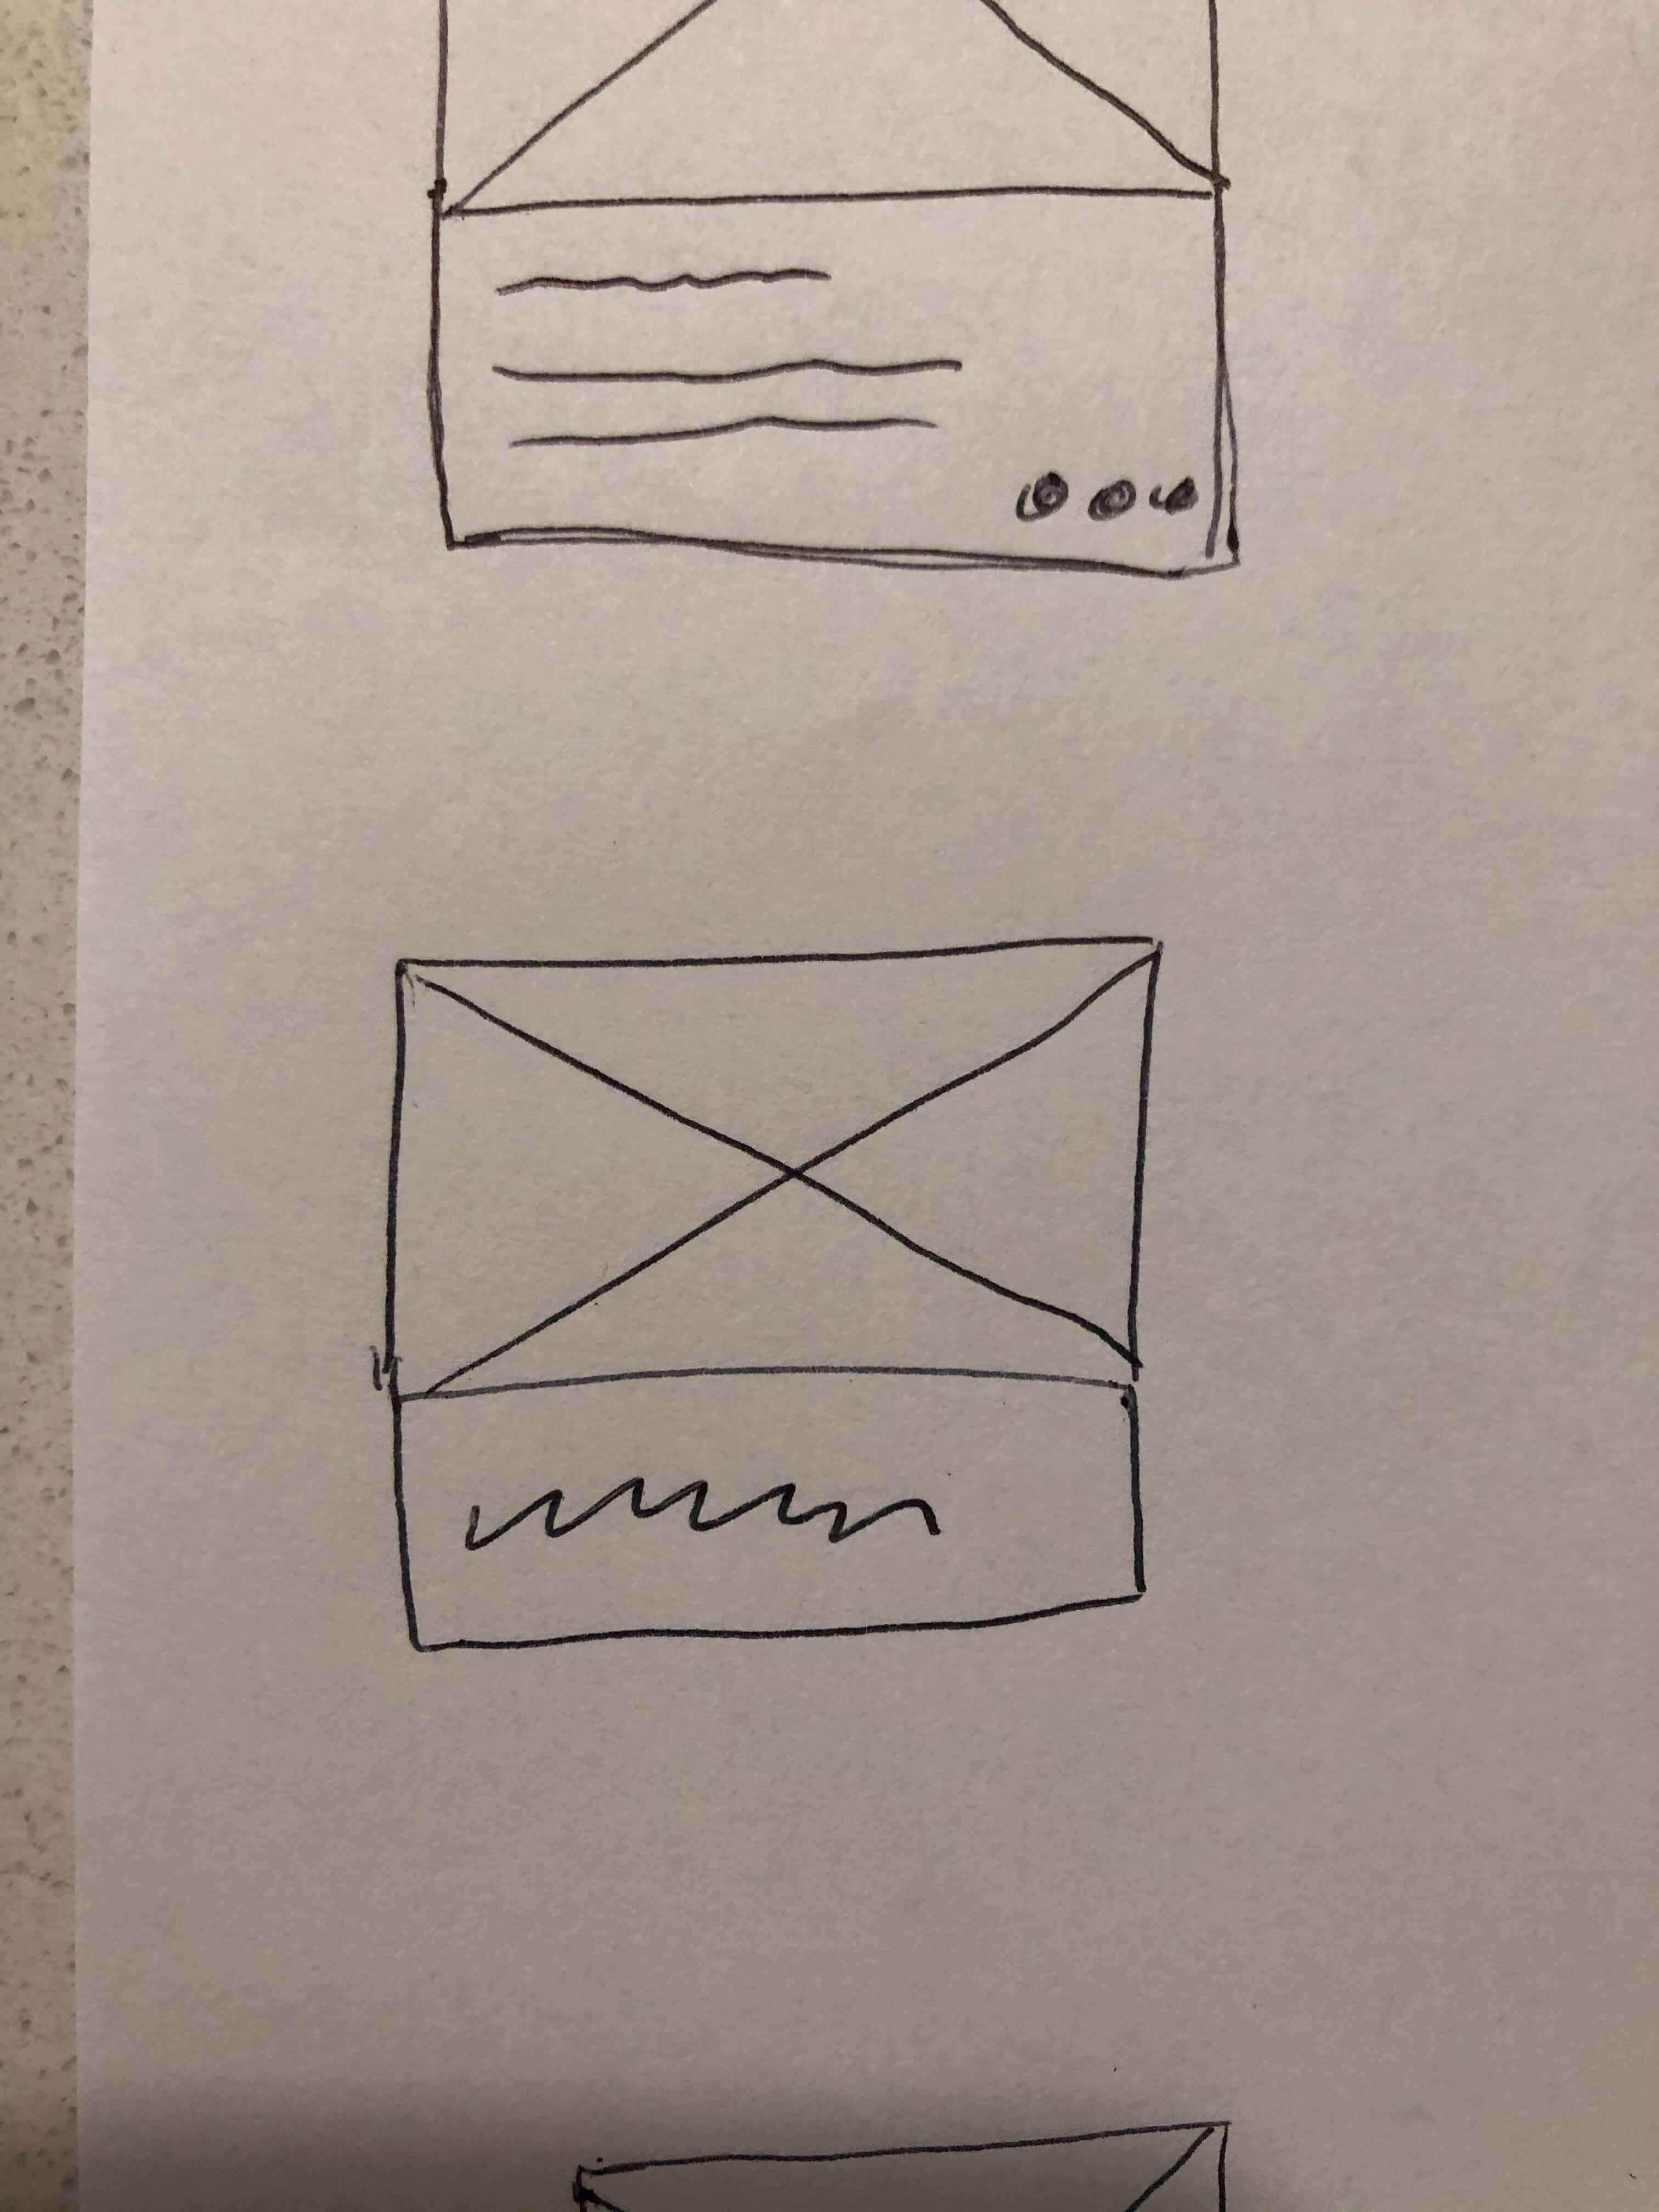card: (361, 904, 1185, 1696)
